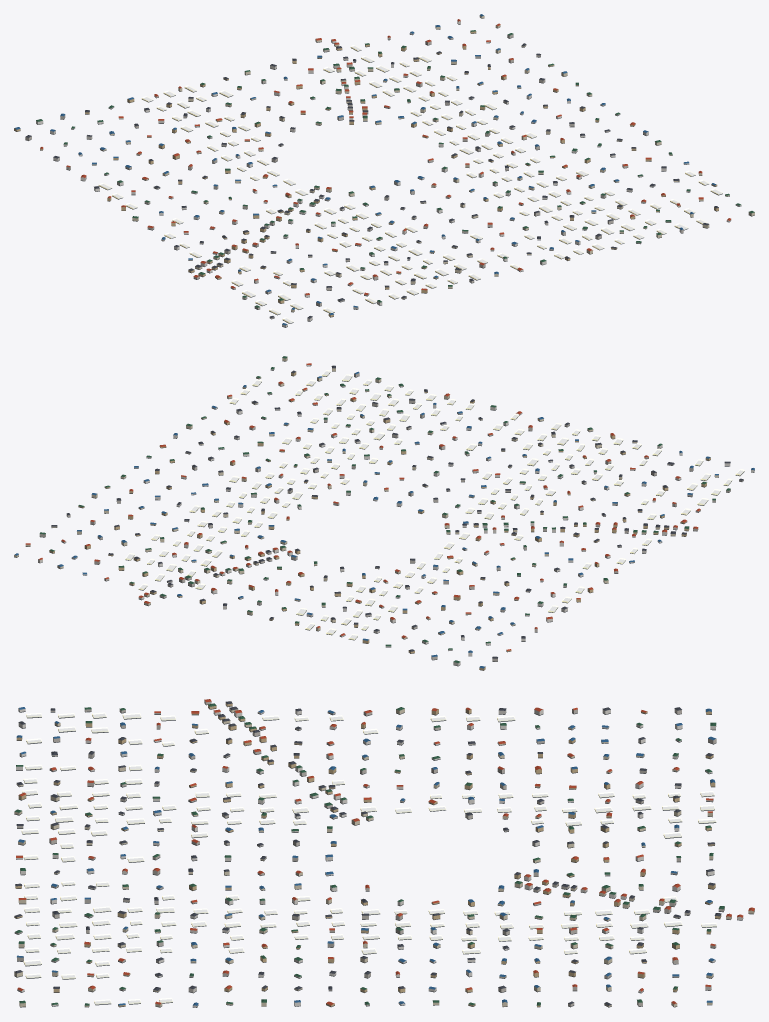
The model's file is buildings_T_E02_S06.glb.
3 renders of one model, top to bottom at view 1: azimuth 30°, elevation 25°; view 2: azimuth 150°, elevation 25°; view 3: azimuth 270°, elevation 25°, orthographic. The views are drawn at different scales.
Visible parts, largest first — view 1: T_E02_S06_slope_seating_foundations, T_E02_S06_roofs_agri_greenhouse_arch, T_E02_S06_walls_wall_french_ochre_villa, T_E02_S06_walls_wall_modern_warm_white, T_E02_S06_walls_wall_dalat_cream_stucco, T_E02_S06_roofs_roof_slate_French_villa_hip, T_E02_S06_walls_wall_pastel_sand_gray, T_E02_S06_roofs_roof_terracotta_gable, T_E02_S06_roofs_roof_pine_green_hip, T_E02_S06_roofs_roof_highland_blue_gable; view 2: T_E02_S06_slope_seating_foundations, T_E02_S06_roofs_agri_greenhouse_arch, T_E02_S06_walls_wall_french_ochre_villa, T_E02_S06_walls_wall_modern_warm_white, T_E02_S06_walls_wall_dalat_cream_stucco, T_E02_S06_roofs_roof_slate_French_villa_hip, T_E02_S06_walls_wall_pastel_sand_gray, T_E02_S06_roofs_roof_terracotta_gable, T_E02_S06_roofs_roof_pine_green_hip, T_E02_S06_roofs_roof_highland_blue_gable; view 3: T_E02_S06_roofs_agri_greenhouse_arch, T_E02_S06_slope_seating_foundations, T_E02_S06_walls_wall_french_ochre_villa, T_E02_S06_walls_wall_modern_warm_white, T_E02_S06_walls_wall_dalat_cream_stucco, T_E02_S06_roofs_roof_slate_French_villa_hip, T_E02_S06_walls_wall_pastel_sand_gray, T_E02_S06_roofs_roof_terracotta_gable, T_E02_S06_roofs_roof_pine_green_hip, T_E02_S06_roofs_roof_highland_blue_gable.
Boxes of the visible parts, x1,y1,x2,y2 form: T_E02_S06_slope_seating_foundations: [14, 17, 754, 327]; T_E02_S06_roofs_agri_greenhouse_arch: [98, 45, 722, 323]; T_E02_S06_walls_wall_french_ochre_villa: [14, 31, 718, 316]; T_E02_S06_walls_wall_modern_warm_white: [36, 20, 741, 327]; T_E02_S06_walls_wall_dalat_cream_stucco: [92, 15, 754, 311]; T_E02_S06_roofs_roof_slate_French_villa_hip: [25, 43, 718, 318]; T_E02_S06_walls_wall_pastel_sand_gray: [25, 34, 690, 318]; T_E02_S06_roofs_roof_terracotta_gable: [40, 19, 730, 295]; T_E02_S06_roofs_roof_pine_green_hip: [36, 30, 754, 307]; T_E02_S06_roofs_roof_highland_blue_gable: [14, 14, 716, 325]; T_E02_S06_slope_seating_foundations: [14, 360, 754, 670]; T_E02_S06_roofs_agri_greenhouse_arch: [125, 370, 744, 639]; T_E02_S06_walls_wall_french_ochre_villa: [49, 372, 710, 670]; T_E02_S06_walls_wall_modern_warm_white: [38, 364, 754, 665]; T_E02_S06_walls_wall_dalat_cream_stucco: [14, 357, 718, 639]; T_E02_S06_roofs_roof_slate_French_villa_hip: [51, 365, 743, 658]; T_E02_S06_walls_wall_pastel_sand_gray: [39, 373, 743, 661]; T_E02_S06_roofs_roof_terracotta_gable: [25, 363, 700, 650]; T_E02_S06_roofs_roof_pine_green_hip: [39, 356, 730, 663]; T_E02_S06_roofs_roof_highland_blue_gable: [14, 371, 754, 668]; T_E02_S06_roofs_agri_greenhouse_arch: [21, 712, 716, 1004]; T_E02_S06_slope_seating_foundations: [14, 703, 754, 1007]; T_E02_S06_walls_wall_french_ochre_villa: [14, 703, 721, 1006]; T_E02_S06_walls_wall_modern_warm_white: [16, 708, 743, 1007]; T_E02_S06_walls_wall_dalat_cream_stucco: [14, 708, 754, 1006]; T_E02_S06_roofs_roof_slate_French_villa_hip: [14, 701, 721, 1005]; T_E02_S06_walls_wall_pastel_sand_gray: [14, 700, 724, 1006]; T_E02_S06_roofs_roof_terracotta_gable: [16, 699, 754, 1005]; T_E02_S06_roofs_roof_pine_green_hip: [14, 703, 724, 1005]; T_E02_S06_roofs_roof_highland_blue_gable: [16, 707, 716, 1005].
Size of the model in its own units: 1803 by 24.89 by 1847.
